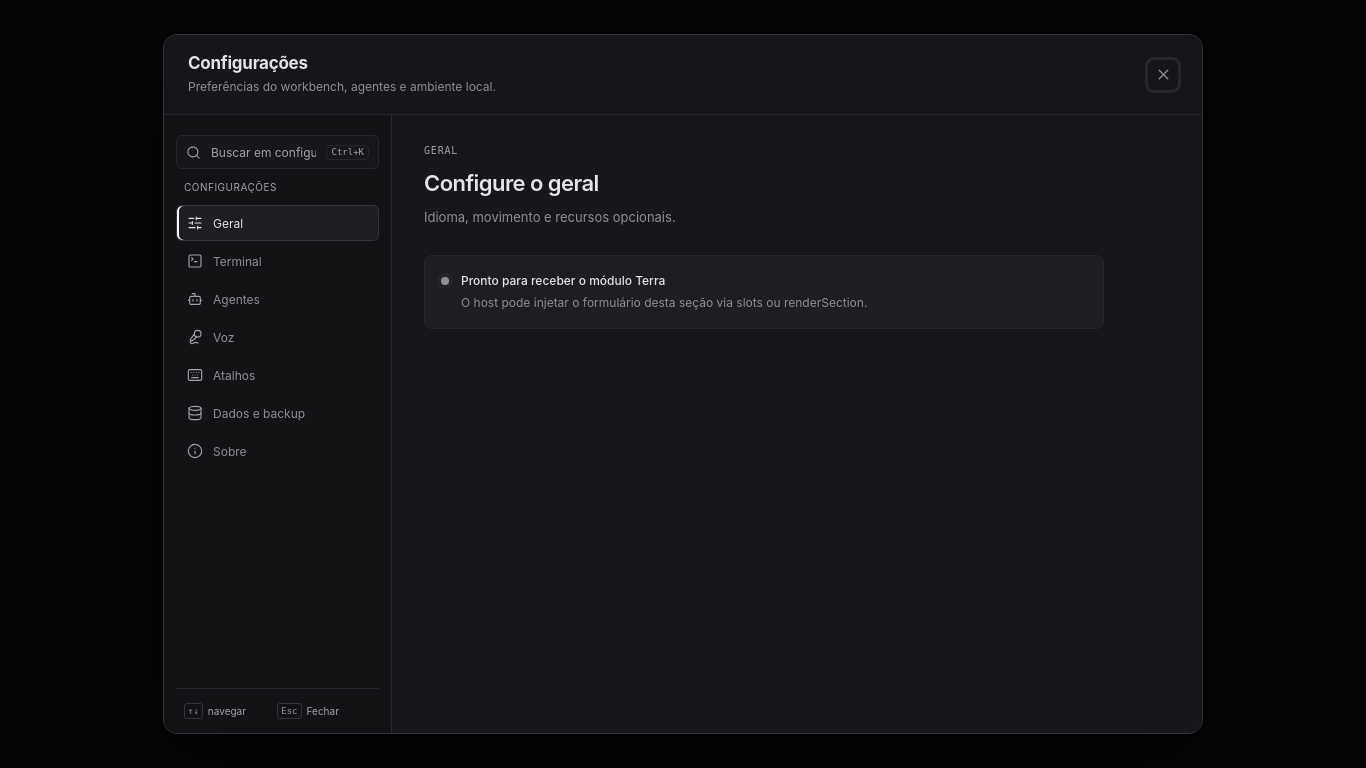
Test case: SettingsDialog › Given the settings, when navigating sections, then the selected slot is rendered
Click the tab "Voz" at (278, 337), box x1=176 y1=319 x2=379 y2=355
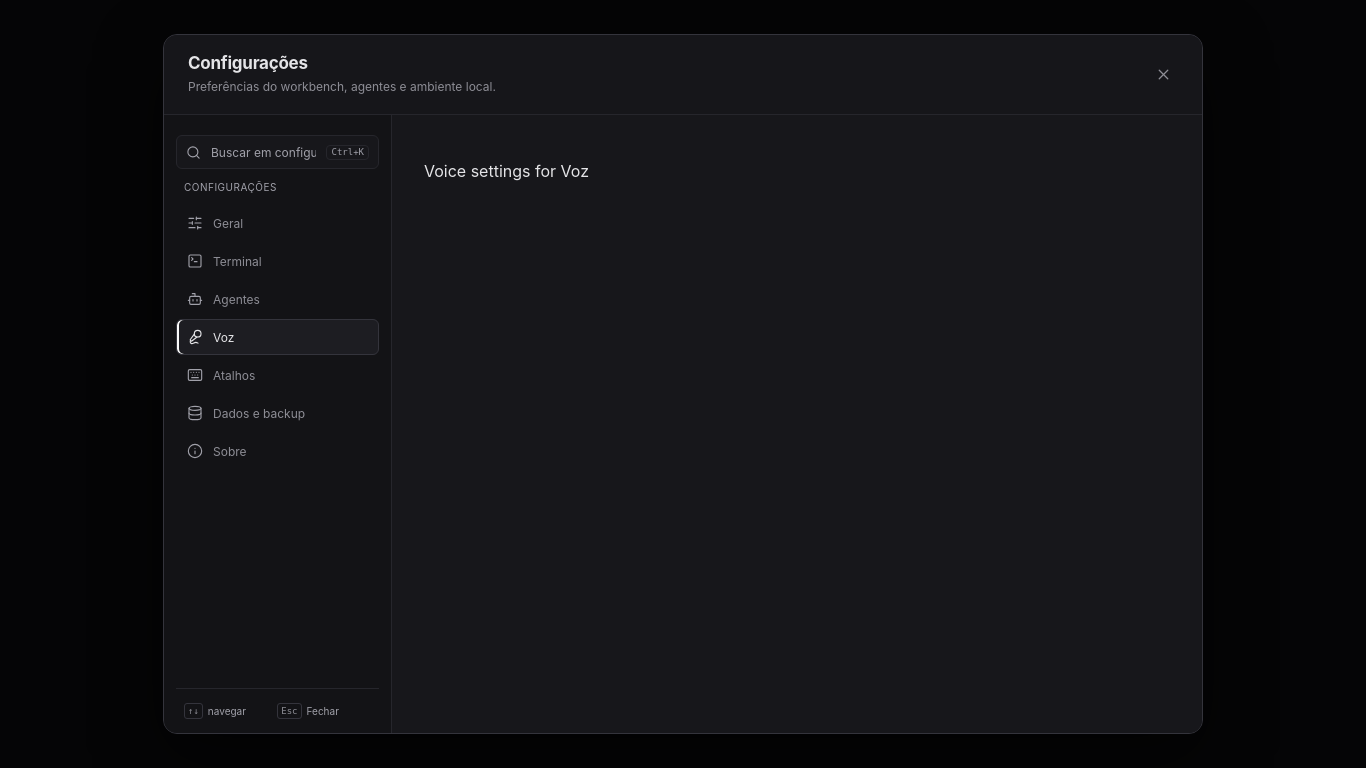
expect the text "Voice settings for Voz" is shown: met, box x1=424 y1=161 x2=589 y2=181
